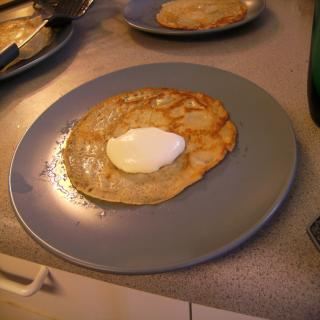Pancake: (65, 93, 236, 204), (0, 0, 52, 74), (156, 0, 246, 33)
